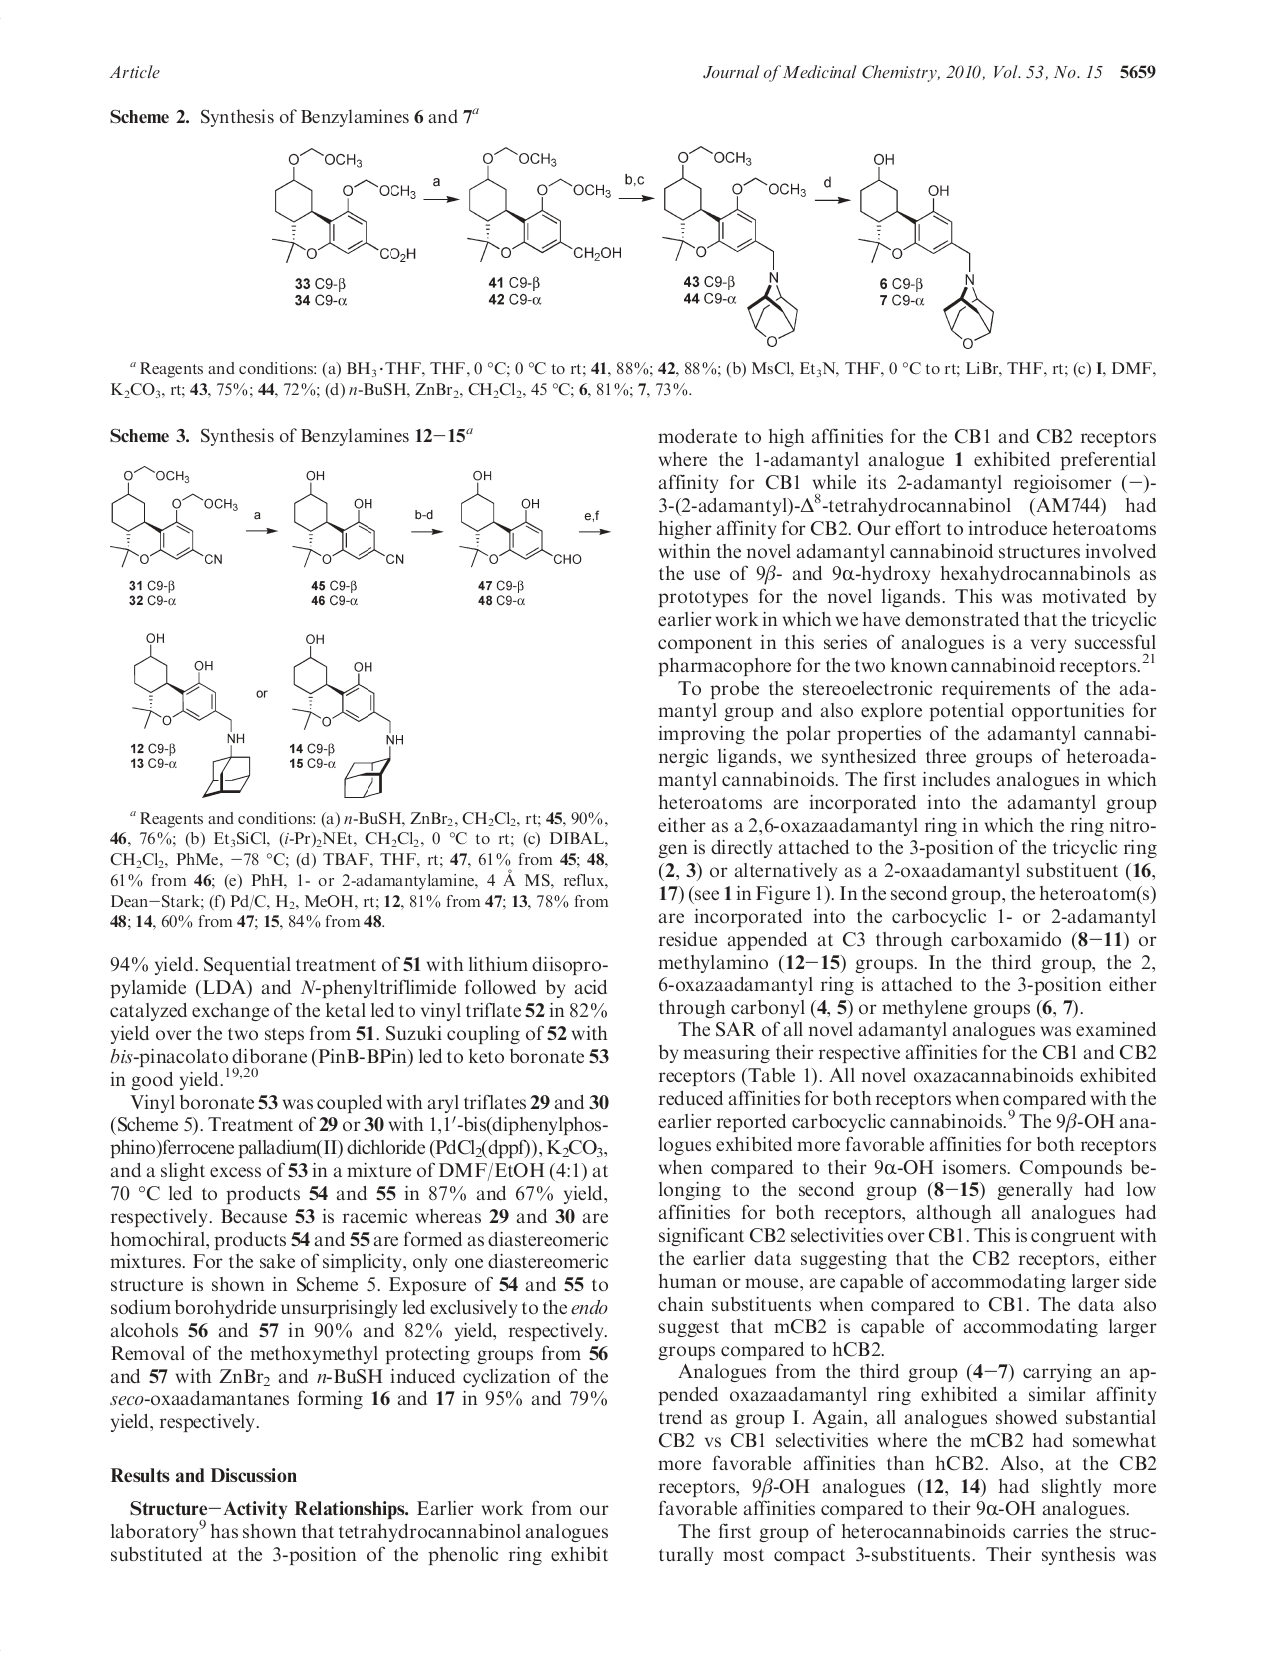exist_molecular: (660, 144, 801, 348), (856, 148, 997, 352), (464, 144, 622, 269), (291, 632, 406, 802), (134, 633, 251, 797), (269, 148, 419, 263), (460, 467, 582, 577), (106, 465, 238, 567), (294, 469, 403, 573)
